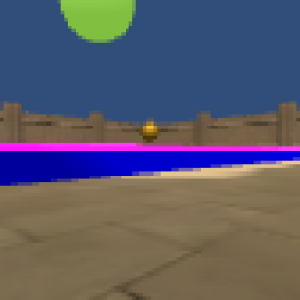goodGoal: (60, 1, 136, 44)
goodGoalMulti: (140, 121, 160, 143)
platform: (1, 152, 300, 182)
ramp: (1, 142, 299, 151)
